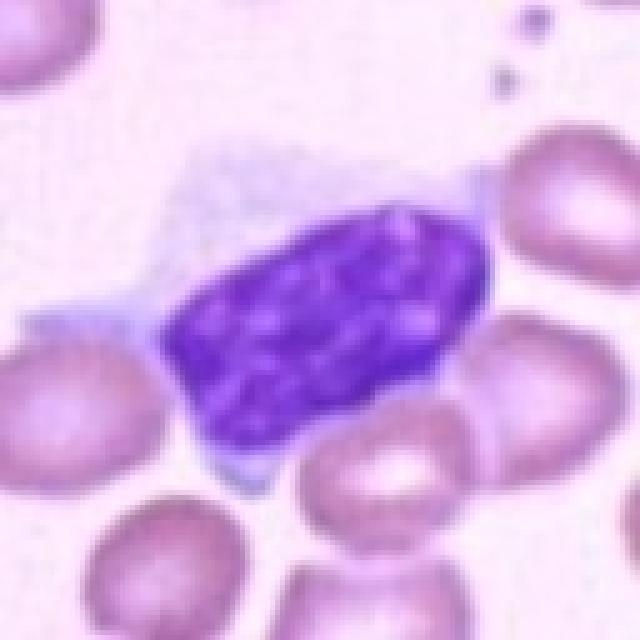lympho: (28, 124, 519, 496)
